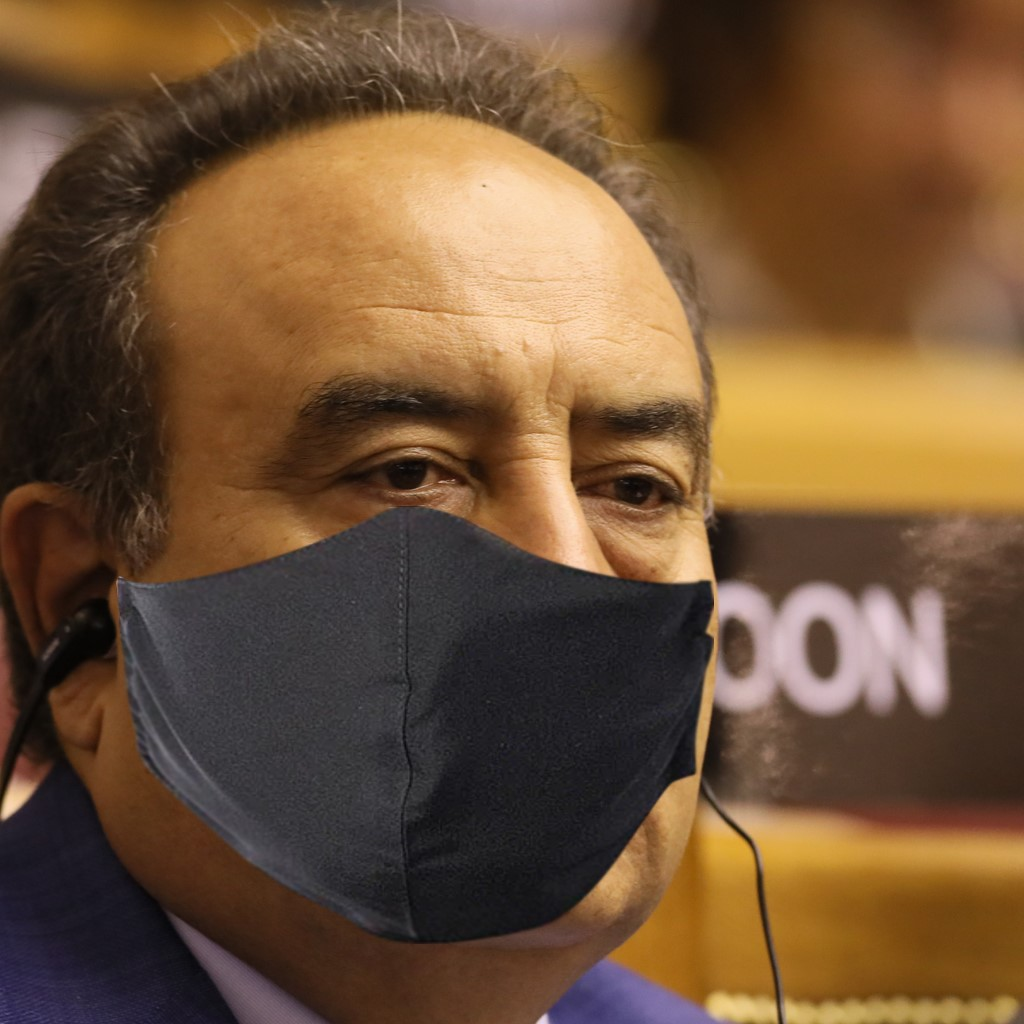con_mascara: (58, 71, 712, 965)
